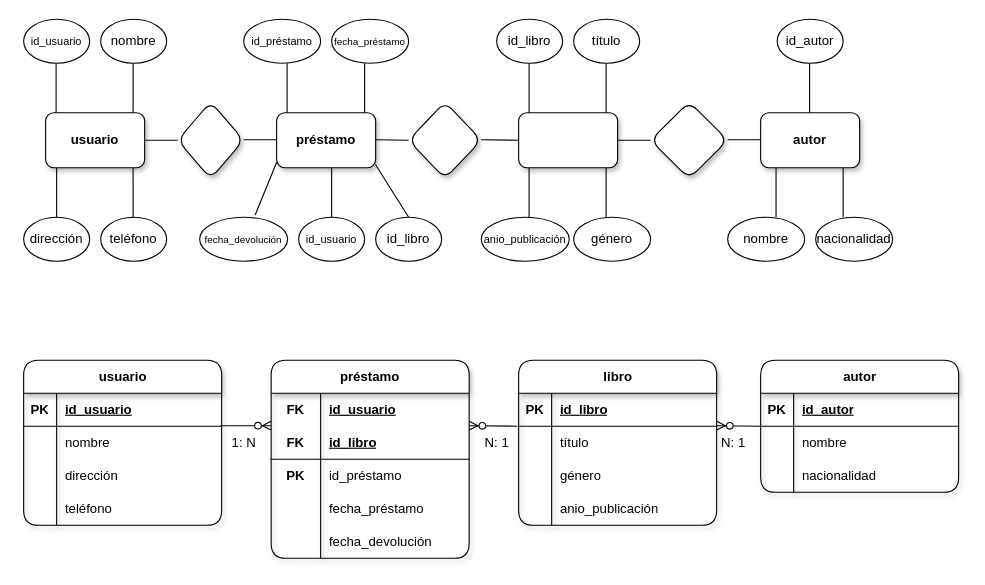
Some shapes in this 985 by 585 pixel diagram are drawn without their labels. The centre of each missing label's shape, as x and y in pixels:
"contiene" goes at pixel 445 141.
"libros" goes at pixel 568 141.
"realiza" goes at pixel 211 141.
"tiene mucho" goes at pixel 689 141.
